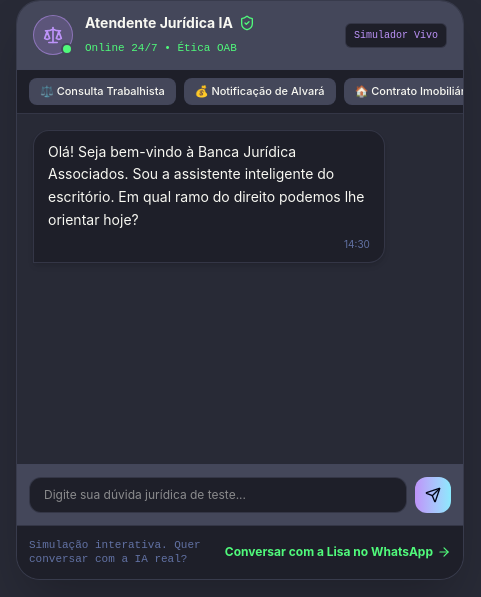
Scenario: WhatsAppSimulator Component › handles clicking No button gracefully without repeating doubt template
Type "pensão alimentícia" into the field with placeholder "Digite sua dúvida jurídica de teste...". click: (218, 495)
box: [29, 477, 407, 513]
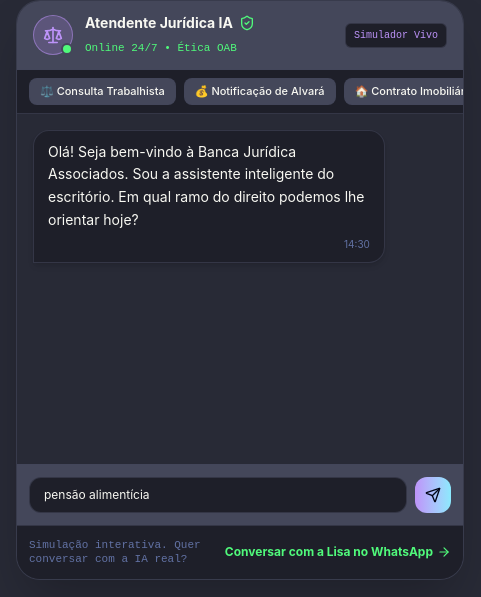
Submit the form with placeholder "Digite sua dúvida jurídica de teste", box [17, 464, 463, 525]
Wait 1300 ms
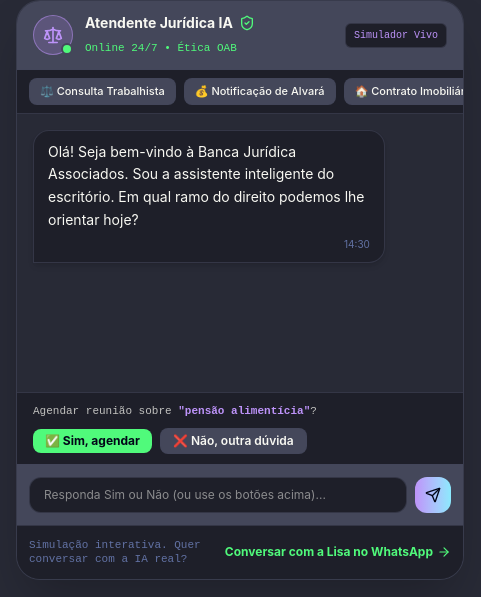
Click the button with test id "chat-confirm-no". click: (233, 441)
box: [160, 428, 307, 454]
Wait 1300 ms
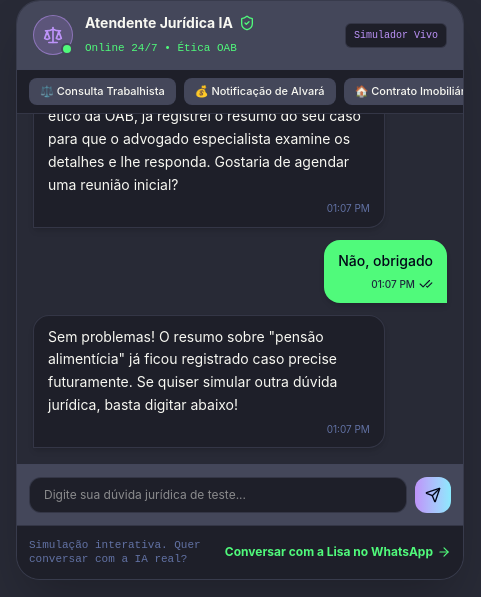
Expected: the text "O resumo sobre \"pensão alimentícia\" já ficou registrado" is shown, [48, 328, 338, 413]
